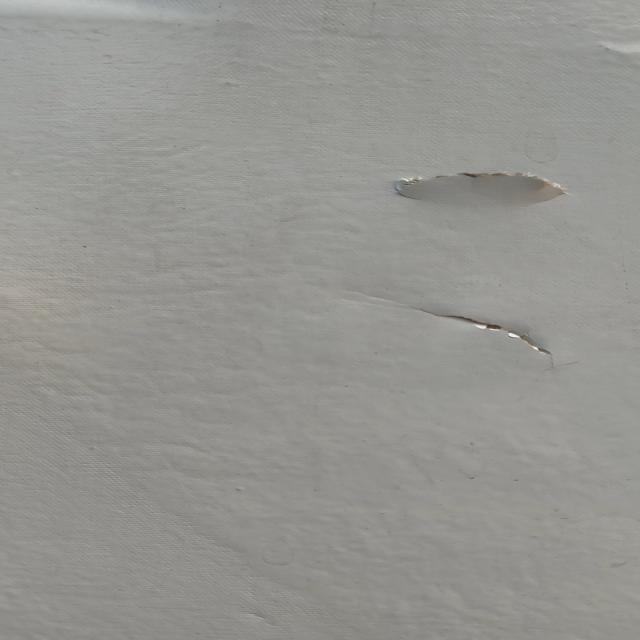Scratches: (394, 283, 576, 372), (374, 157, 581, 211)
